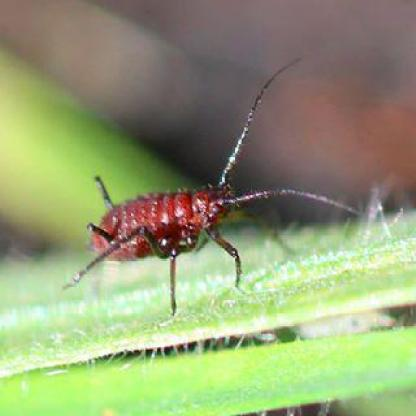aphid: (62, 90, 341, 304)
